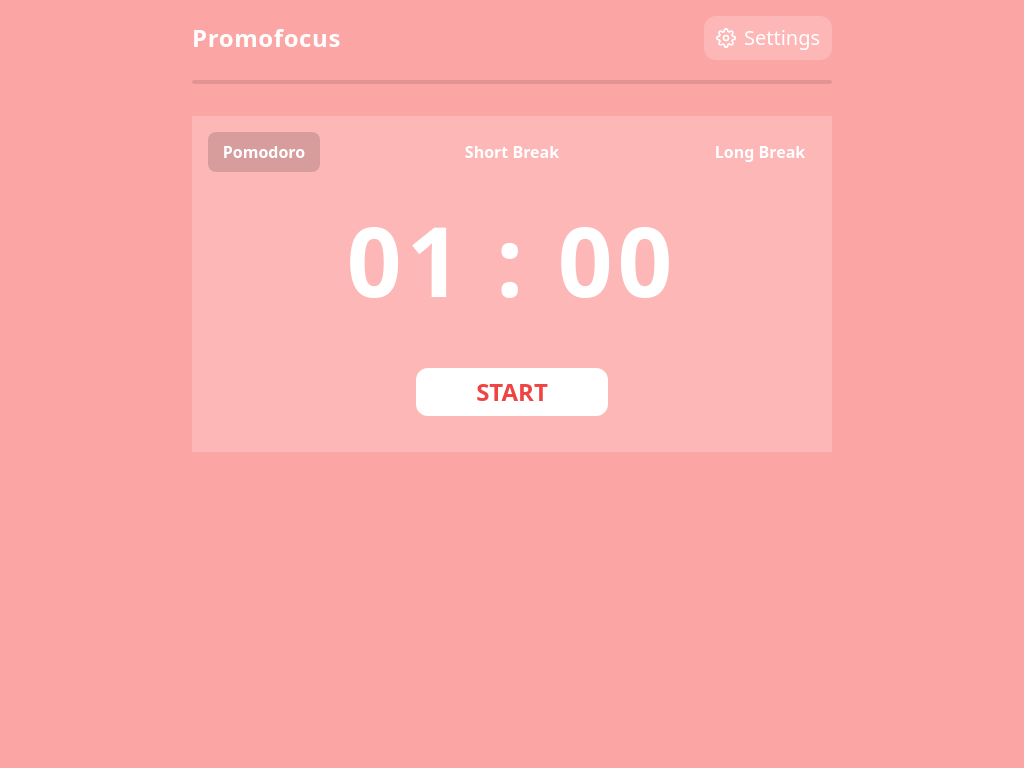
Test: App › should open settings menu on clicking the settings function and do close on pressing the buttons to close
The width and height of the screenshot is (1024, 768).
Click the text "Settings". click: (768, 38)
box: [704, 16, 832, 60]
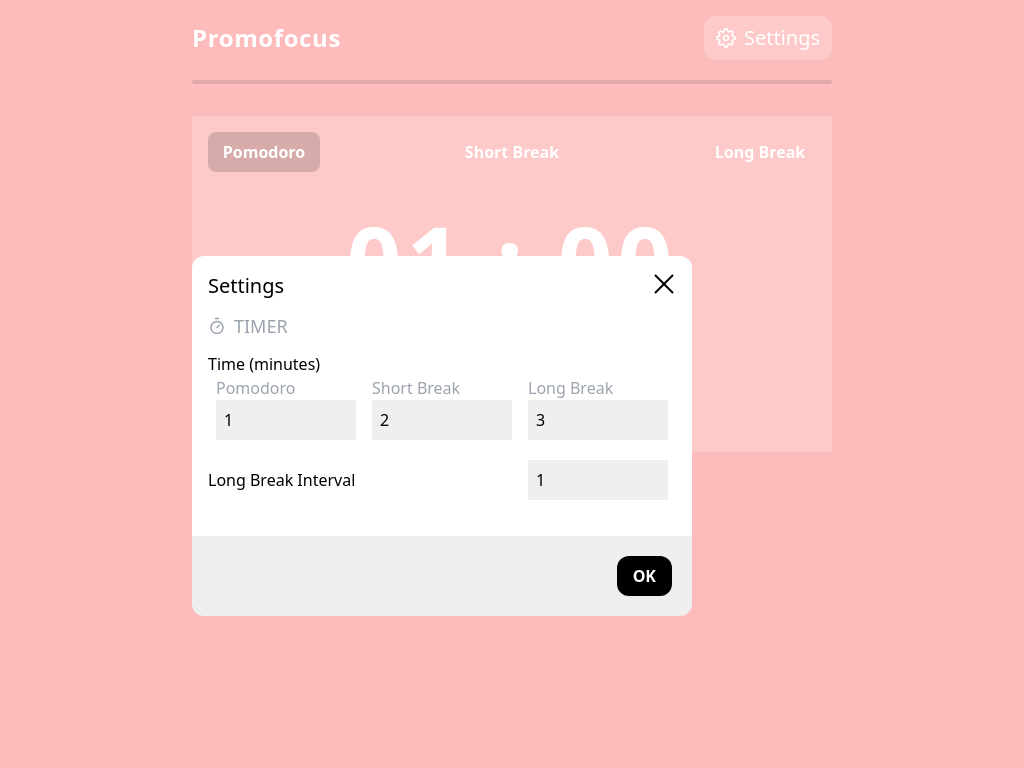
Check: the element with test id "settingsmenu" is shown, box [208, 272, 676, 300]
Click the text "Settings". click: (768, 38)
box: [704, 16, 832, 60]
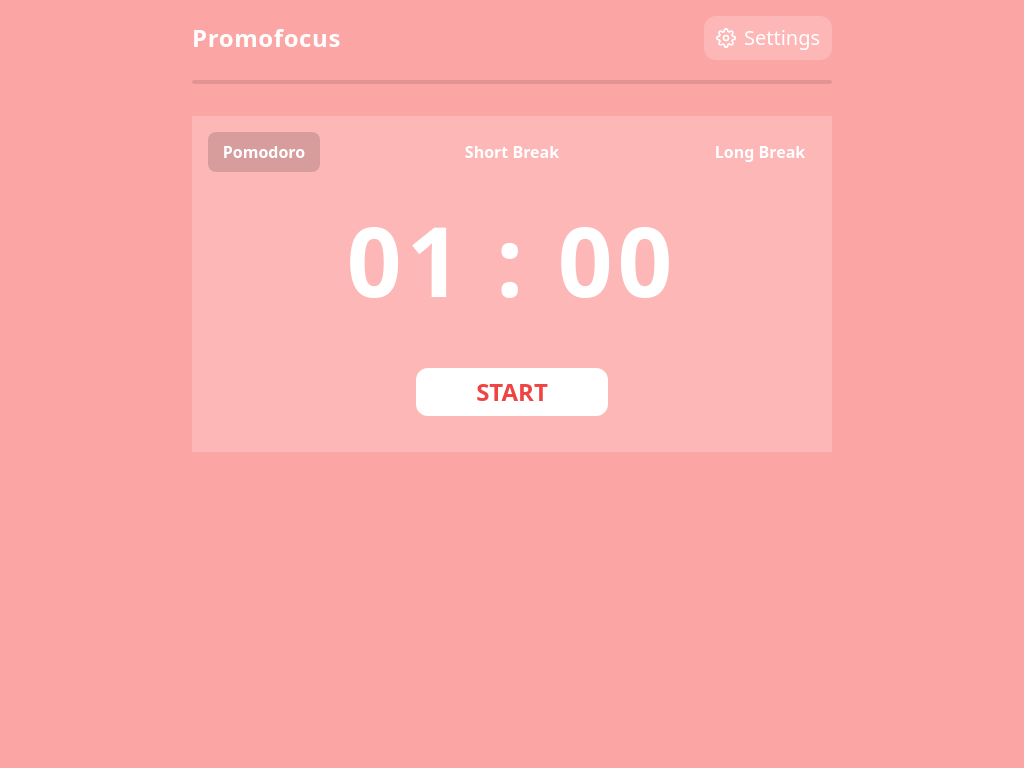
Check: the element with test id "settingsmenu" is gone
